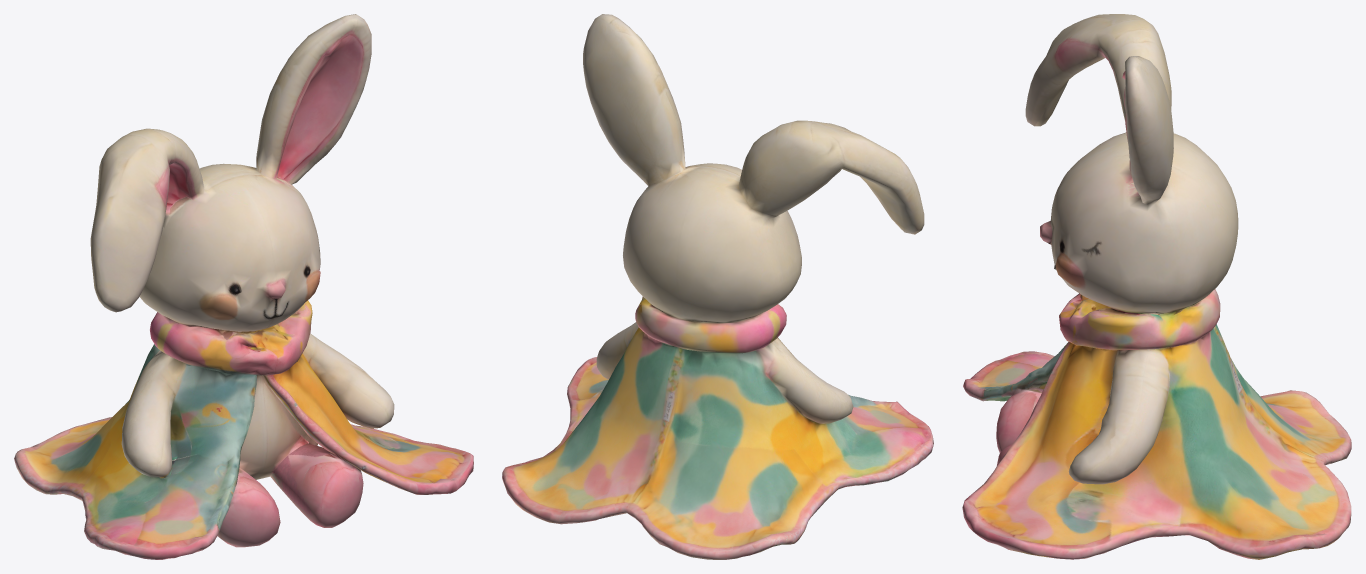
The model's file is doudou.glb.
The picture shows the model from 3 angles, left to right: view 1: azimuth 30°, elevation 25°; view 2: azimuth 150°, elevation 25°; view 3: azimuth 270°, elevation 25°; orthographic projection. The views are drawn at different scales.
Size of the model in its own units: 1.71 by 2 by 1.45.
Materials: 1 (1 with a texture image).
